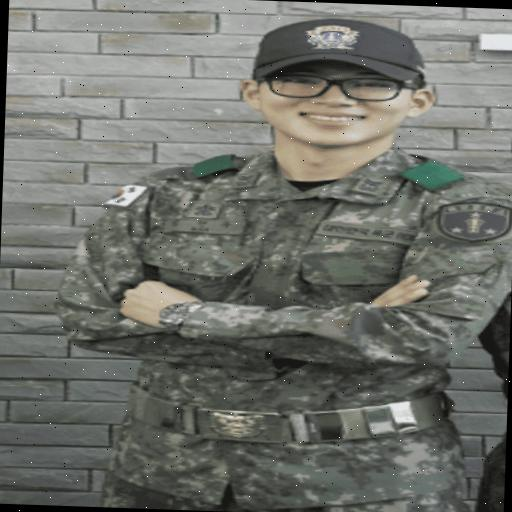korea army: (46, 7, 512, 512)
